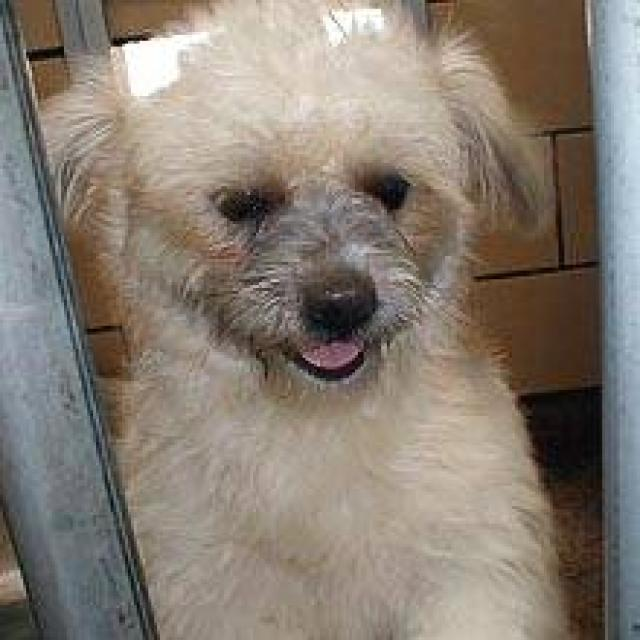dog: (23, 0, 591, 637)
